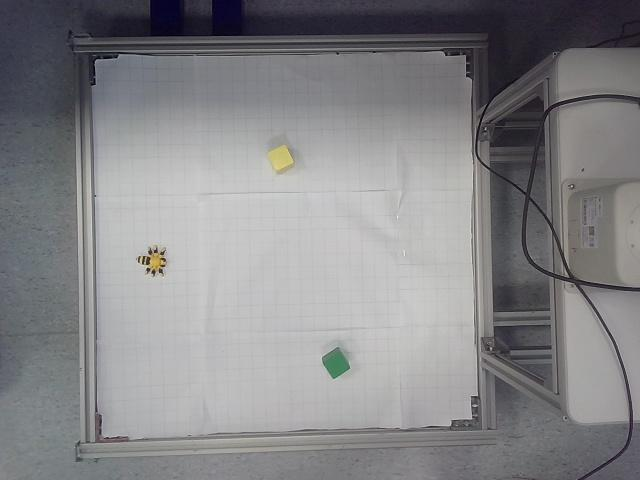frelon: (136, 245, 167, 278)
